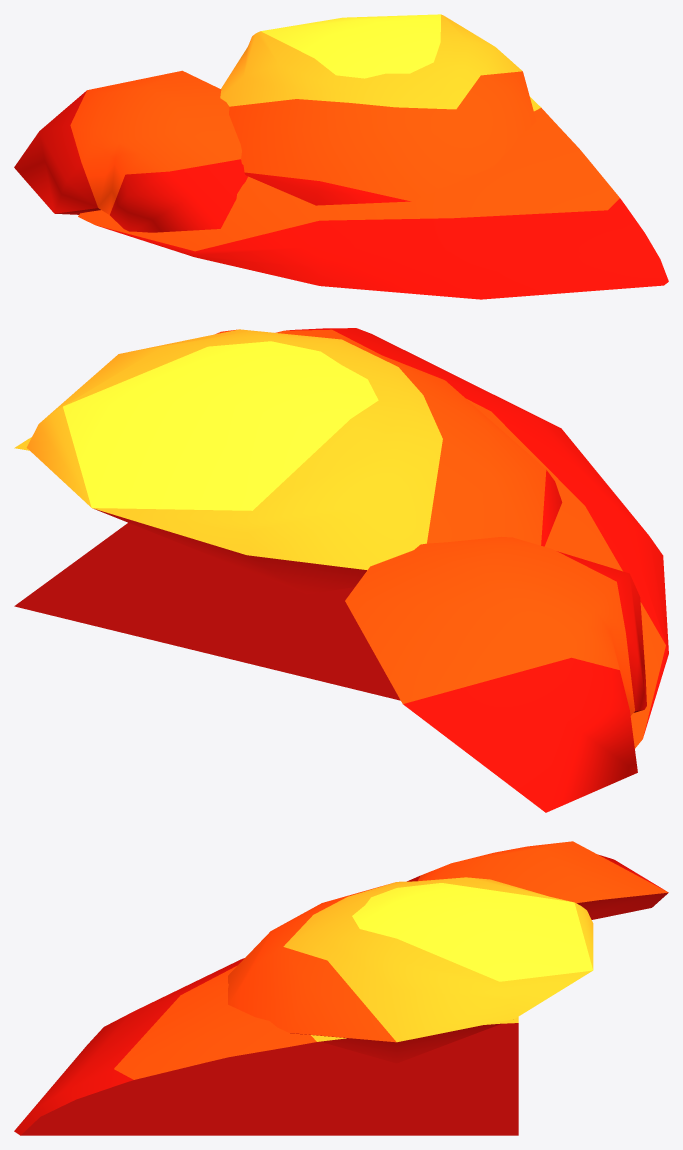
File: shot_zflame_211.glb
The picture shows the model from 3 angles, top to bottom: view 1: azimuth 30°, elevation 25°; view 2: azimuth 150°, elevation 25°; view 3: azimuth 270°, elevation 25°; orthographic projection. The views are drawn at different scales.
Parts seen in each view (by area): view 1: zflame_1_bed_b211, zflame_1_billow2_b211, zflame_1_billow6_b211; view 2: zflame_1_billow2_b211, zflame_1_billow6_b211, zflame_1_bed_b211; view 3: zflame_1_bed_b211, zflame_1_billow2_b211, zflame_1_billow6_b211.
Boxes of the visible parts, x1,y1,x2,y2 form: zflame_1_bed_b211: [78, 97, 668, 299]; zflame_1_billow2_b211: [220, 14, 536, 205]; zflame_1_billow6_b211: [14, 70, 247, 232]; zflame_1_billow2_b211: [26, 329, 562, 594]; zflame_1_billow6_b211: [345, 537, 646, 812]; zflame_1_bed_b211: [14, 328, 668, 748]; zflame_1_bed_b211: [14, 958, 518, 1135]; zflame_1_billow2_b211: [228, 877, 593, 1063]; zflame_1_billow6_b211: [407, 841, 668, 919].
Size of the model in its own units: 11.2 by 3.72 by 13.43.
